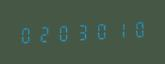one: (107, 18, 124, 41)
three: (71, 20, 88, 43)
two: (35, 22, 52, 45)
zero: (17, 23, 34, 46), (53, 21, 70, 44), (89, 19, 106, 42), (125, 17, 142, 40)
